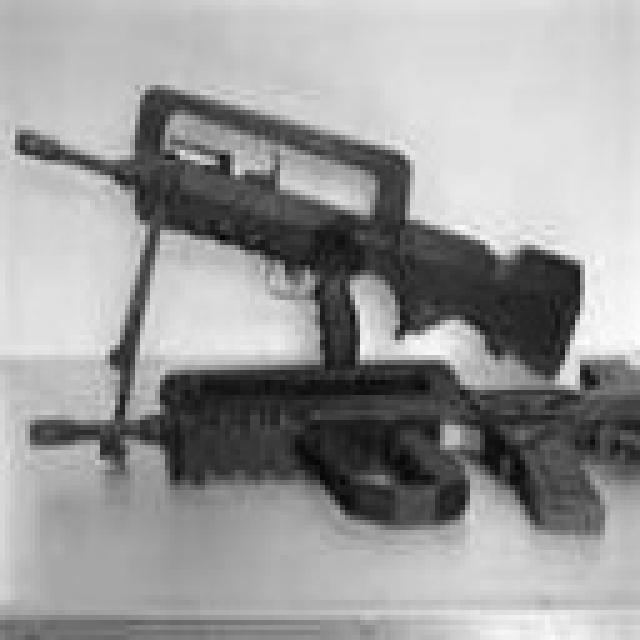Rifle: (0, 84, 612, 389), (0, 308, 640, 565)
